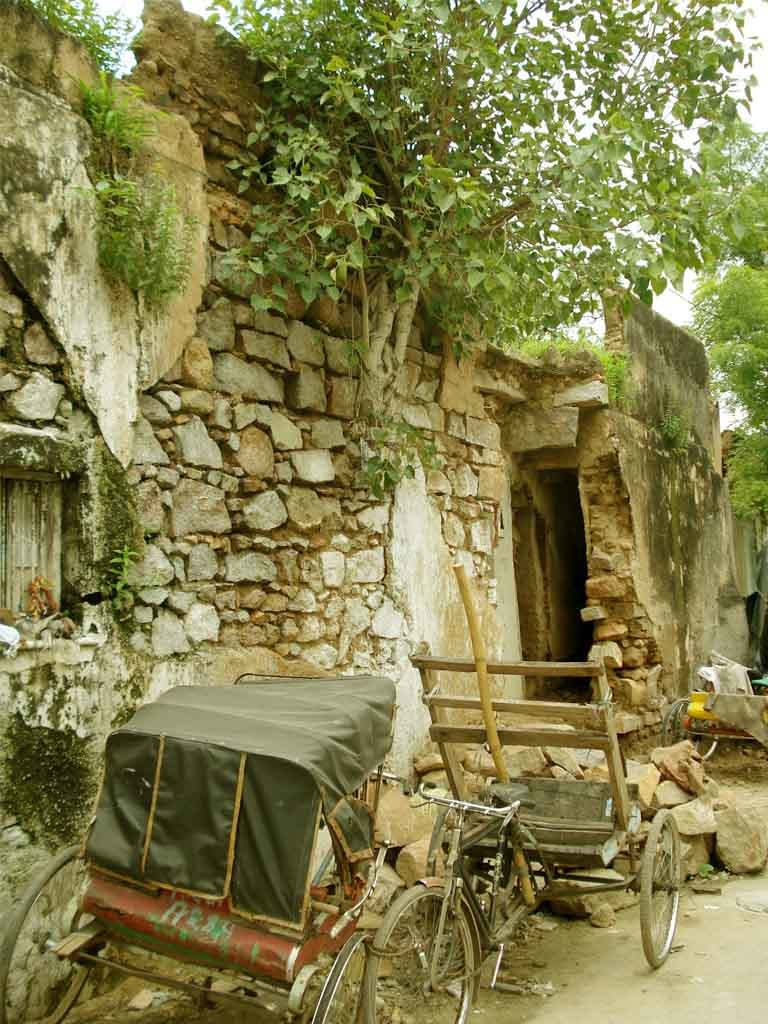Tree: (164, 30, 703, 451), (673, 147, 767, 538)
